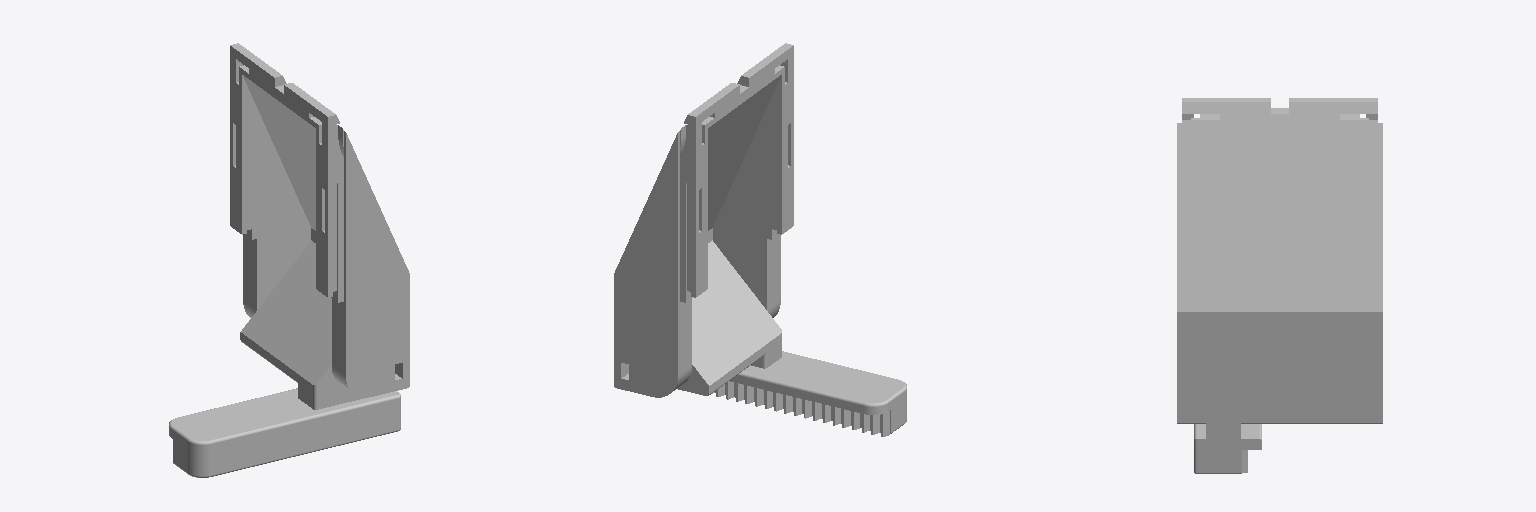
Rendered from Prints_fingerRack.obj.
The picture shows the model from 3 angles: view 1: azimuth 30°, elevation 25°; view 2: azimuth 150°, elevation 25°; view 3: azimuth 270°, elevation 25°; orthographic projection.
Parts seen in each view (by area): view 1: fingerRack; view 2: fingerRack; view 3: fingerRack.
Boxes of the visible parts, x1,y1,x2,y2 form: fingerRack: [169, 43, 409, 477]; fingerRack: [614, 43, 906, 436]; fingerRack: [1177, 98, 1382, 473].
Bounding box in the file's own units: 0.056 × 0.088 × 0.0484.